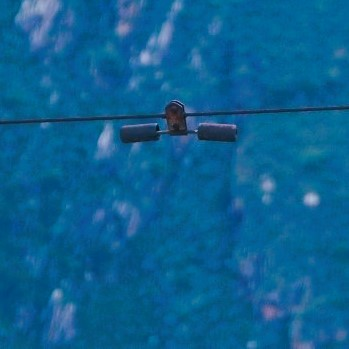Shockproof hammer: (112, 96, 244, 151)
